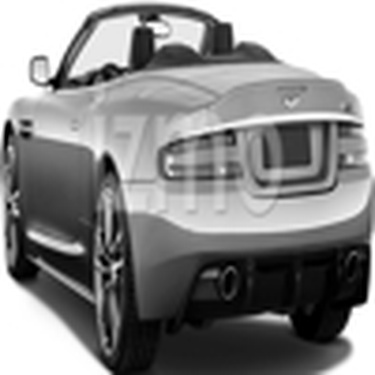car: (2, 3, 369, 369)
